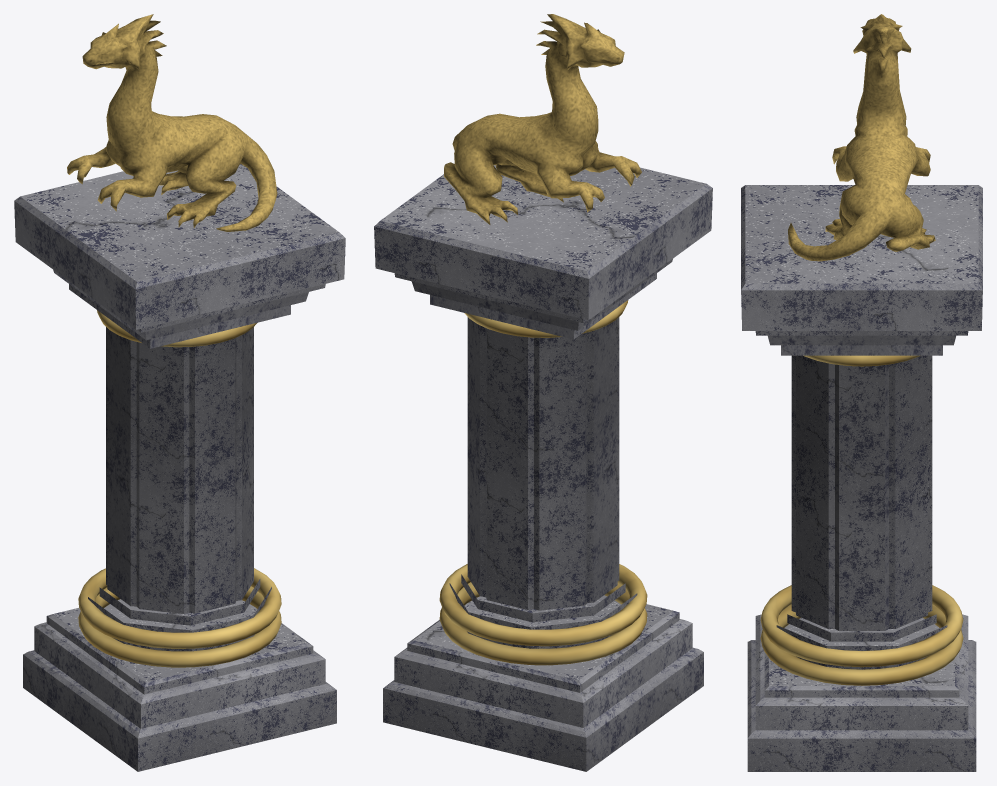
File: mm6_deco_pedestal_dragon.glb
3 views of the same model, side by side, from view 1: azimuth 30°, elevation 25°; view 2: azimuth 150°, elevation 25°; view 3: azimuth 270°, elevation 25° (orthographic). The views are drawn at different scales.
Visible parts, largest first — view 1: StatuetteDragon; view 2: StatuetteDragon; view 3: StatuetteDragon.
Boxes of the visible parts, x1,y1,x2,y2 form: StatuetteDragon: [14, 14, 345, 771]; StatuetteDragon: [374, 14, 712, 771]; StatuetteDragon: [741, 14, 982, 771].
Size of the model in its own units: 0.8225 by 2.57 by 0.8225.
Materials: 3 (3 with a texture image).
